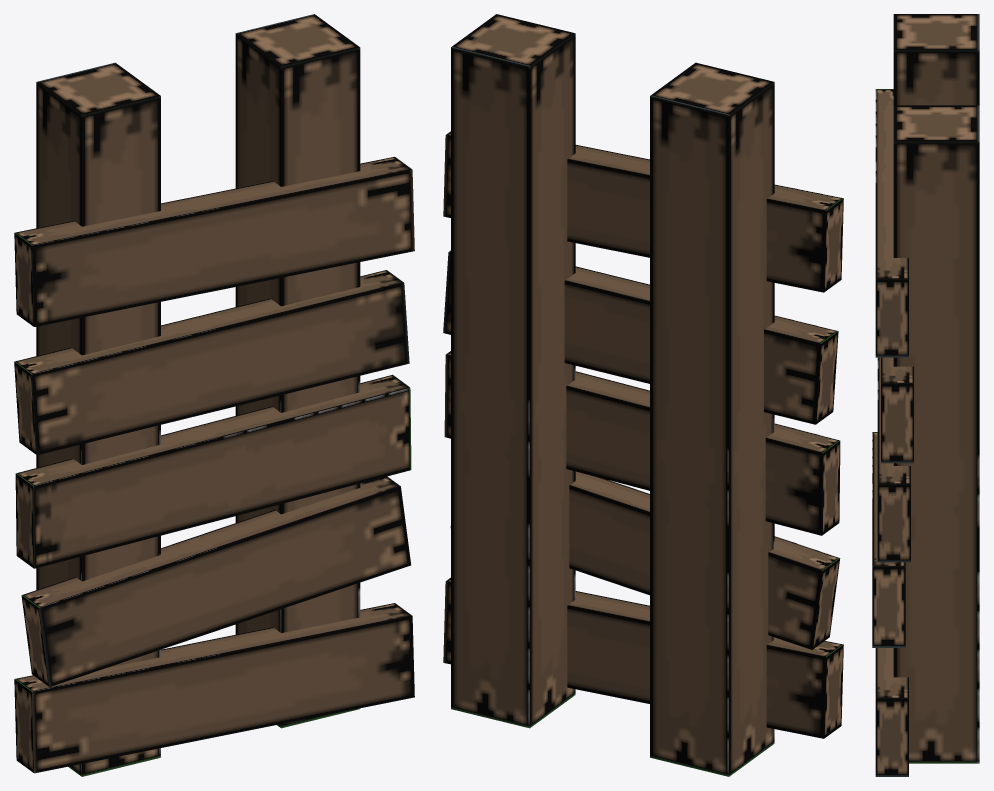
The model's file is deco_winter_woodenFence_shortBigPoles.FBX.
3 views of the same model, side by side, from view 1: azimuth 30°, elevation 25°; view 2: azimuth 150°, elevation 25°; view 3: azimuth 270°, elevation 25° (orthographic). The views are drawn at different scales.
Visible parts, largest first — view 1: deco_winter_woodenFence_shortBigPoles; view 2: deco_winter_woodenFence_shortBigPoles; view 3: deco_winter_woodenFence_shortBigPoles.
Part boxes in pixels (left/top/right/bottom): deco_winter_woodenFence_shortBigPoles: left=14, top=14, right=414, bottom=776; deco_winter_woodenFence_shortBigPoles: left=443, top=14, right=843, bottom=776; deco_winter_woodenFence_shortBigPoles: left=872, top=14, right=979, bottom=776.
Bounding box in the file's own units: 2.42 × 4 × 0.6243.
1 material, 1 textured.
